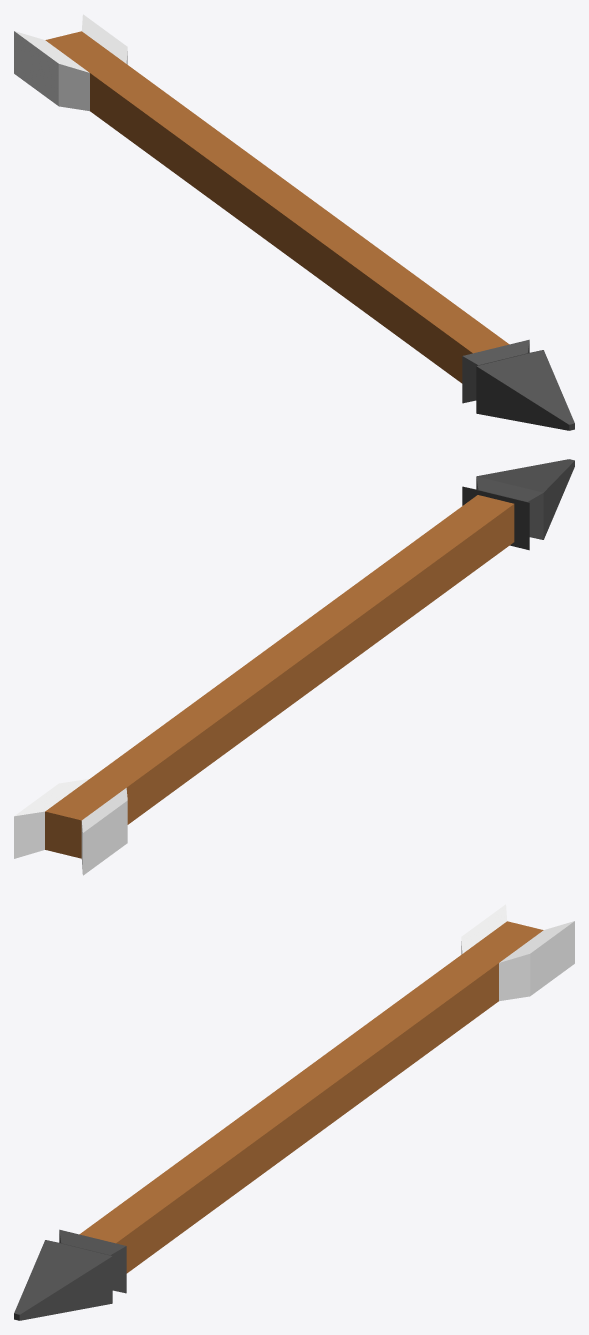
File: Arrow.fbx
3 renders of one model, top to bottom at view 1: azimuth 30°, elevation 25°; view 2: azimuth 150°, elevation 25°; view 3: azimuth 330°, elevation 25°, orthographic.
Parts seen in each view (by area): view 1: Arrow; view 2: Arrow; view 3: Arrow.
Boxes of the visible parts, left/top/right/bottom form: Arrow: left=14, top=14, right=574, bottom=430; Arrow: left=14, top=459, right=574, bottom=875; Arrow: left=14, top=904, right=574, bottom=1320.
Size of the model in its own units: 0.0685 by 0.0451 by 0.9012.
